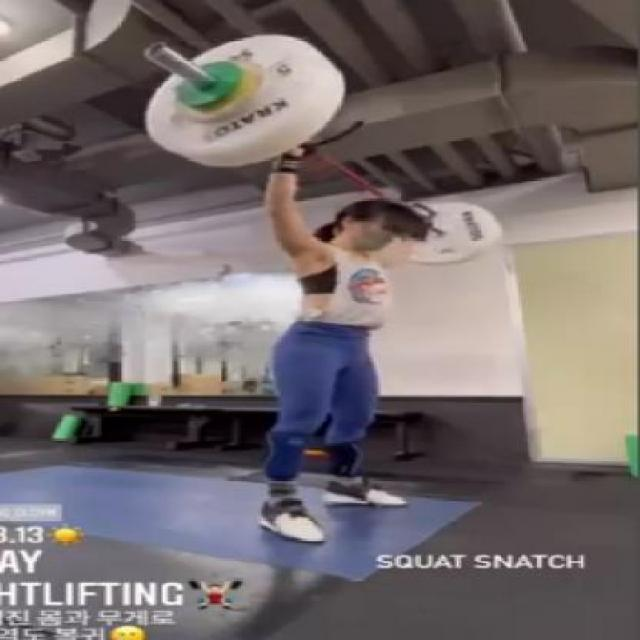Barbell: (142, 41, 176, 61)
